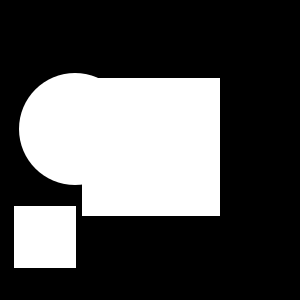circle: (82, 78, 220, 216), (14, 206, 76, 268)
rectangle: (19, 73, 131, 185)
